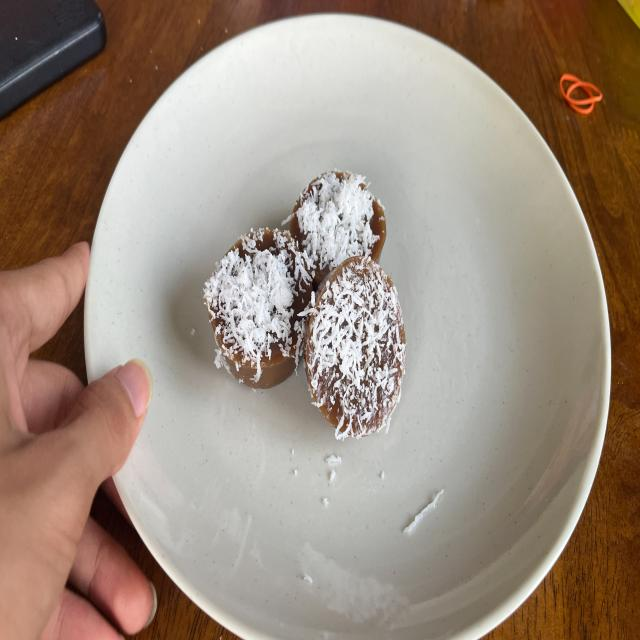Kuih lompang: (305, 256, 405, 440), (204, 229, 312, 389), (289, 171, 386, 291)
